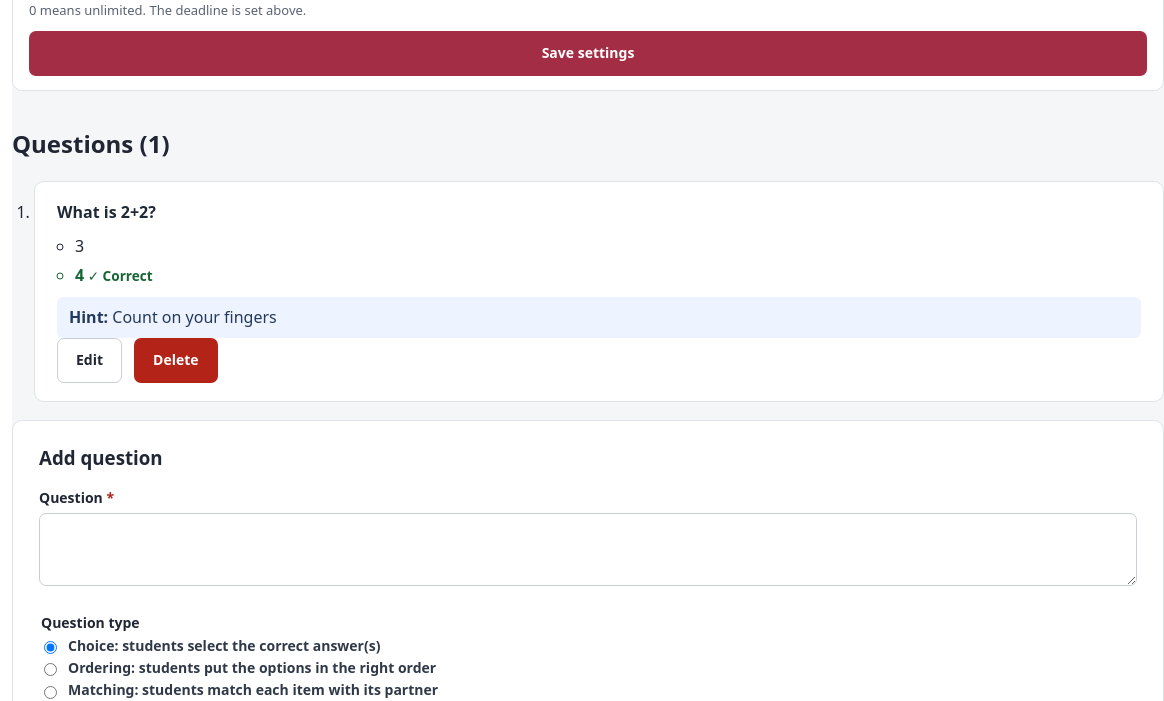
Test: QuizEditor › edits an existing question, starting from its current values
The image size is (1164, 701).
(page scrolled)
Click the button "Edit".
click(90, 360)  # box [57, 338, 122, 383]
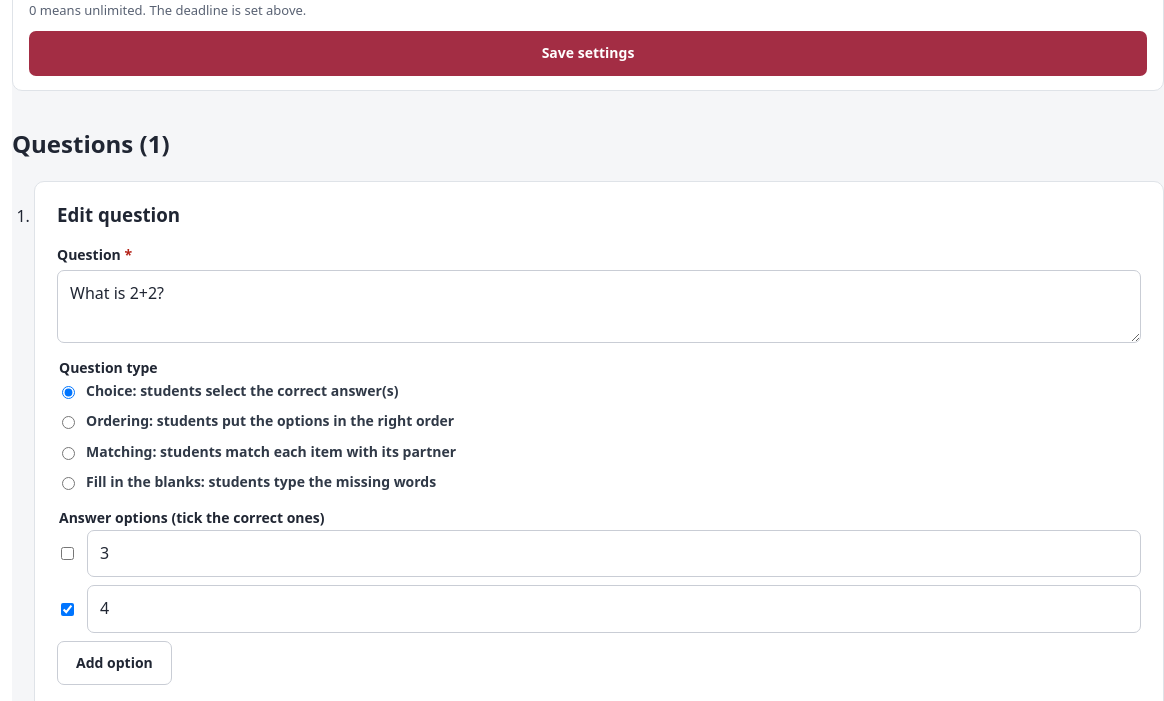
Result: the text box labelled "Question *" holds "What is 2+2?"
Result: the checkbox named "Option 2 is correct" is checked at [61, 603, 74, 616]
Replace the text in the text box labelled "Question *" with "What is 2+3?" at point(599, 307), box [57, 270, 1141, 343]
(page scrolled)
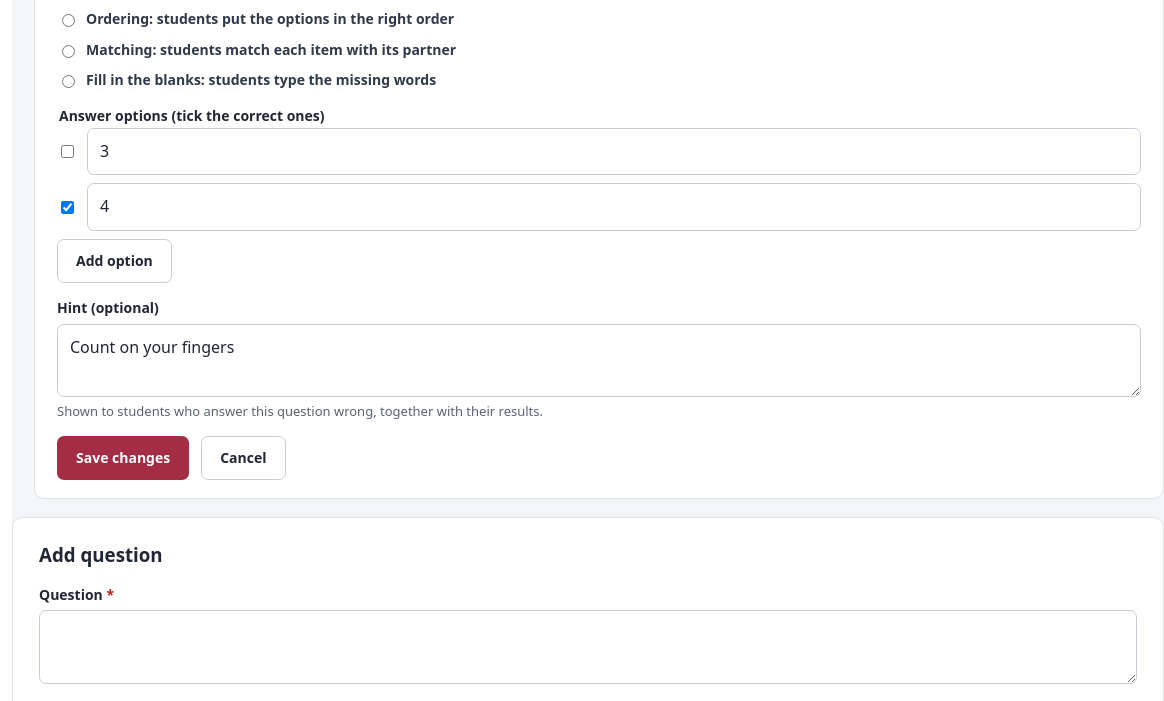
Clear the text box labelled "Hint (optional)" at point(599, 360), box [57, 324, 1141, 397]
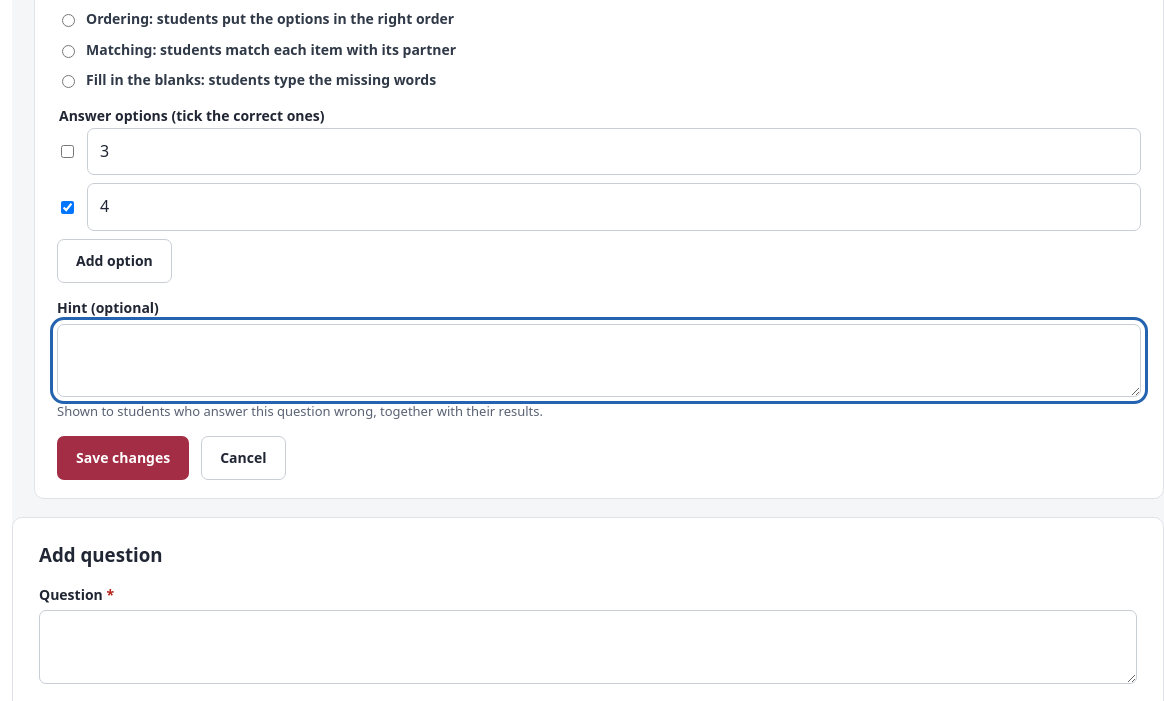
Click the button "Save changes".
click(123, 458)  # box [57, 436, 189, 480]
(page scrolled)
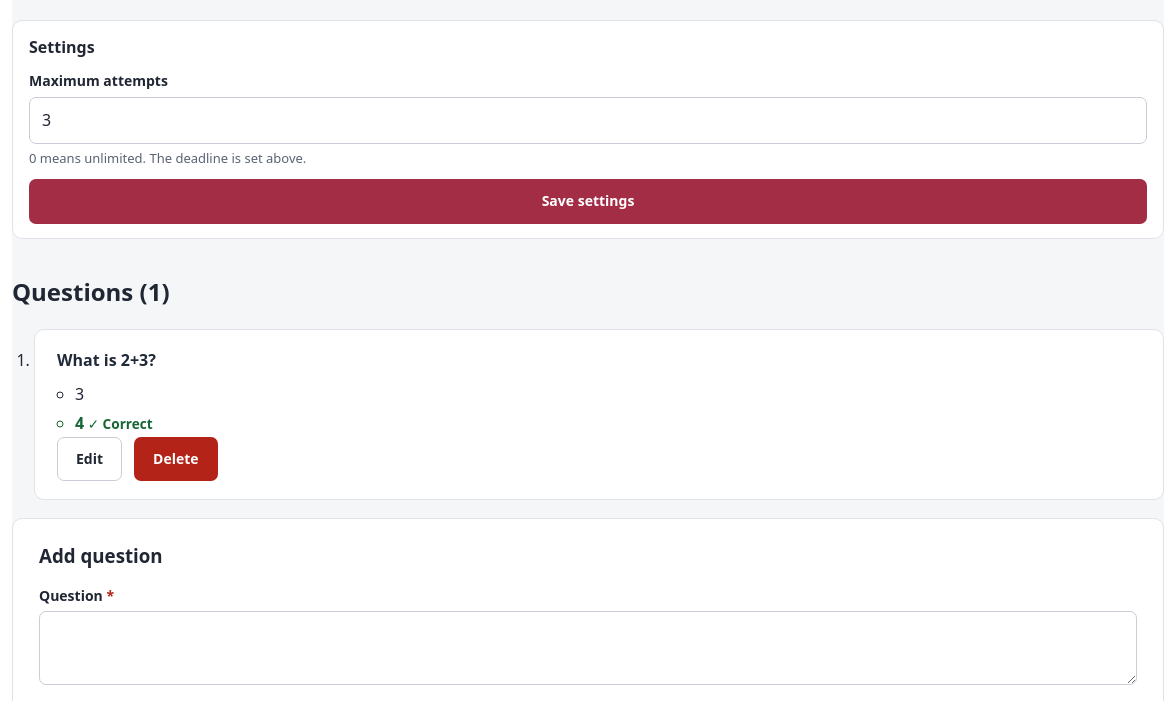
Result: the text "What is 2+3?" is shown at [57, 349, 156, 371]
